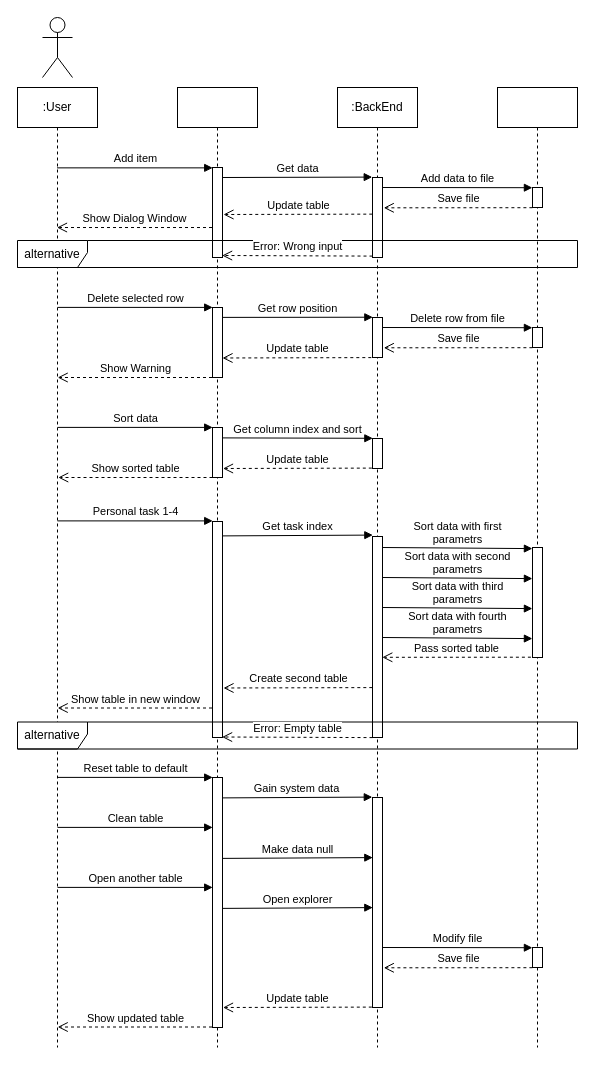
Image size: 595x1065. Some labels were removed from this diagram. The shapes that lost their labels are listed below. From the top down, each one's box as (x1, y1, x2, y2) in pixels, then its label:
(176, 86, 258, 1048): :FrontEnd
(496, 86, 578, 1048): :System
